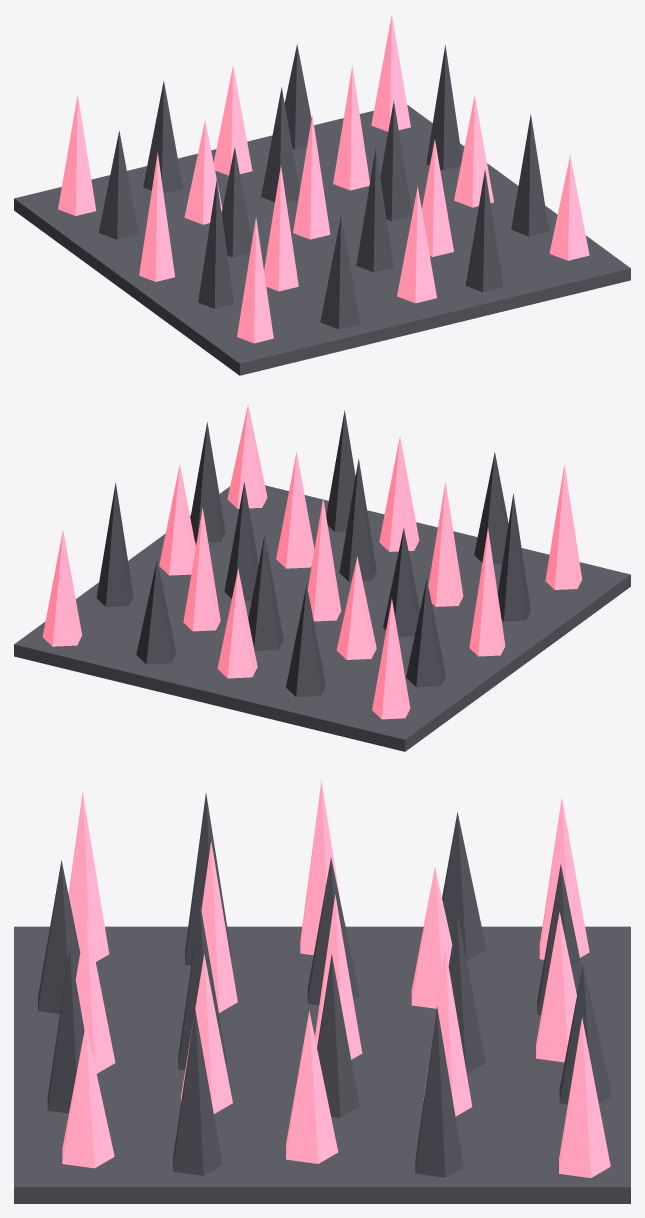
File: spikes.glb
3 views of the same model, one above another, from view 1: azimuth 30°, elevation 25°; view 2: azimuth 150°, elevation 25°; view 3: azimuth 270°, elevation 25° (orthographic). The views are drawn at different scales.
Parts seen in each view (by area): view 1: Cube; view 2: Cube; view 3: Cube.
Part boxes in pixels (left/top/right/bottom): Cube: left=14, top=14, right=630, bottom=375; Cube: left=14, top=404, right=630, bottom=751; Cube: left=14, top=780, right=630, bottom=1203.
Bounding box in the file's own units: 3.4 × 1.13 × 3.4.
